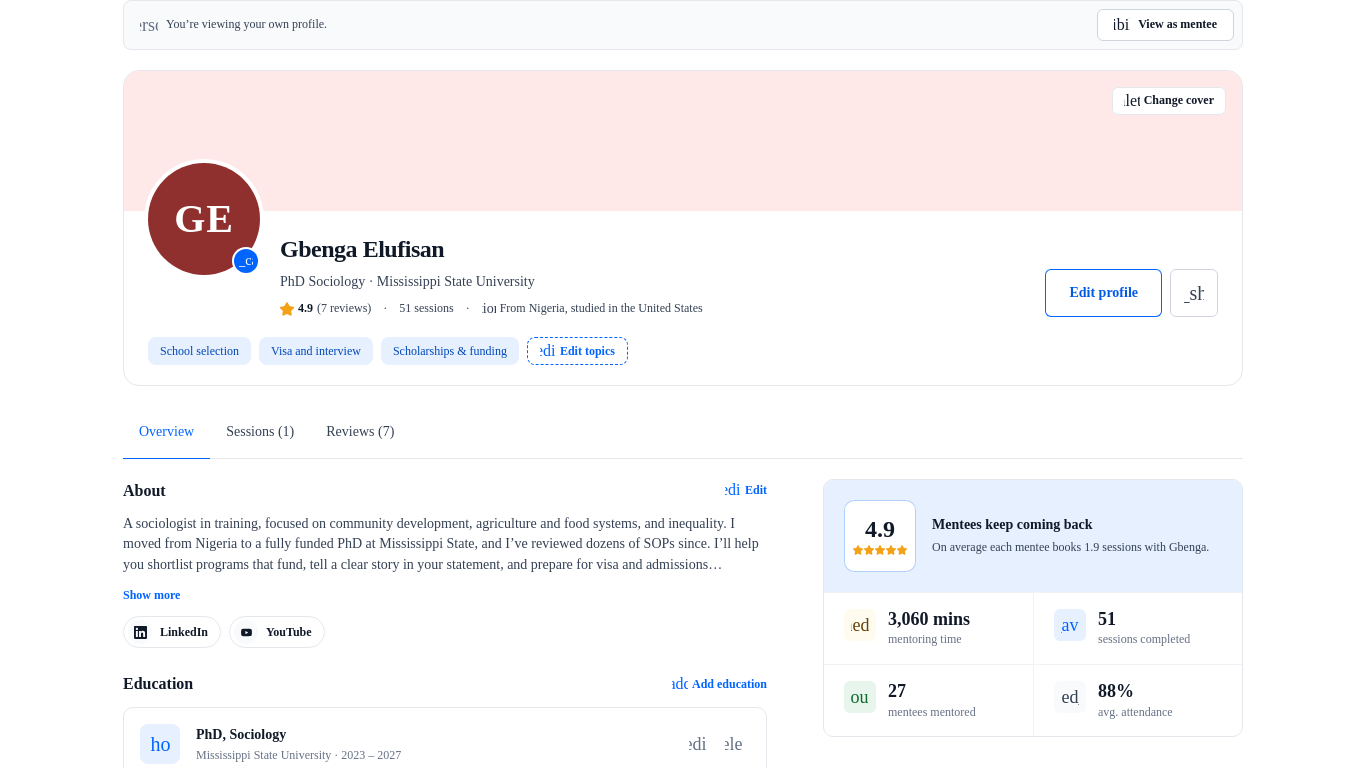
Test: MentorProfileScreen — review of #85 › a failed refetch of the topics beside a cached list still opens on the list
Click the button "edit Edit topics" at (577, 352), box [527,338,628,366]
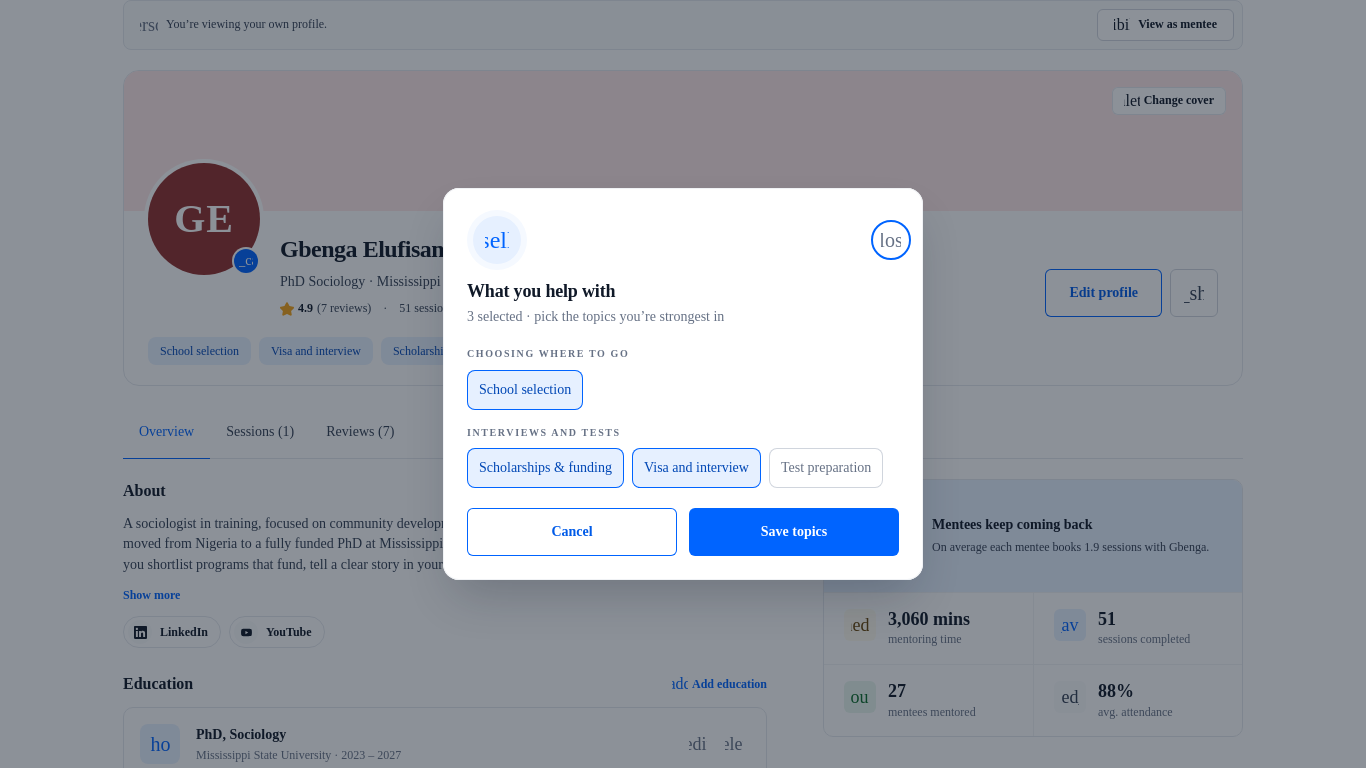
Result: the button "School selection" is shown at [467,370,583,410]
